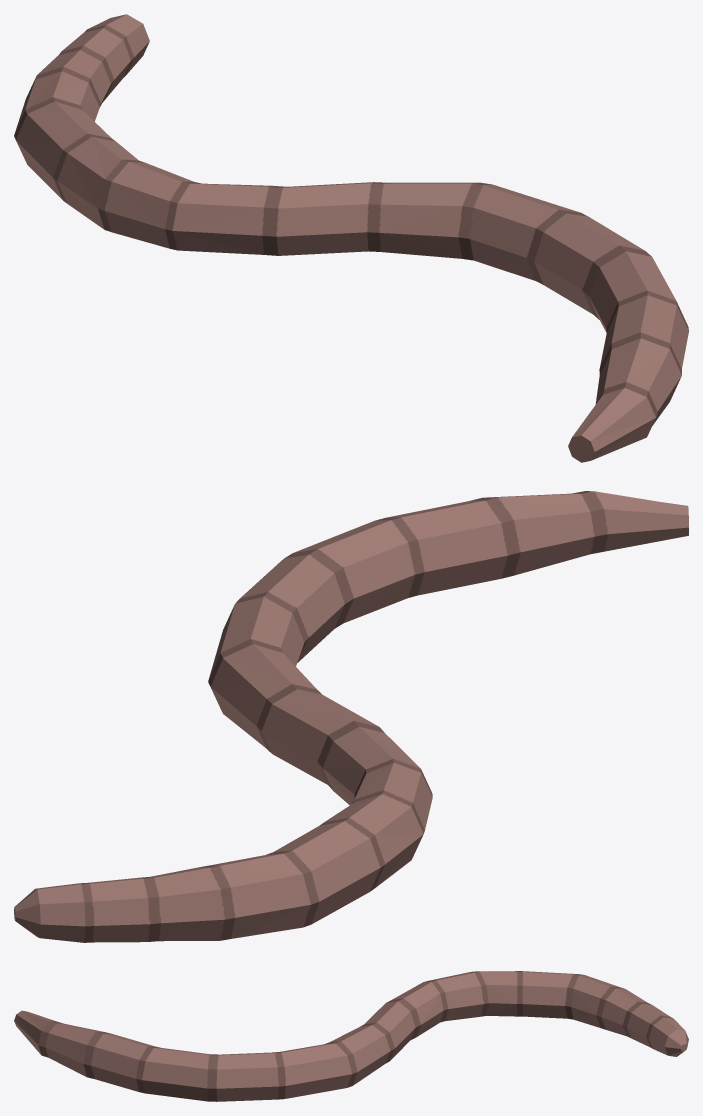
File: worm.obj
3 views of the same model, one above another, from view 1: azimuth 30°, elevation 25°; view 2: azimuth 150°, elevation 25°; view 3: azimuth 270°, elevation 25° (orthographic). The views are drawn at different scales.
Parts seen in each view (by area): view 1: Worm; view 2: Worm; view 3: Worm.
Part boxes in pixels (x1,y1,x2,y2): Worm: (14,14,688,462); Worm: (14,491,688,942); Worm: (14,971,688,1101).
Bounding box in the file's own units: 0.8082 × 0.1635 × 2.19.
1 material, 1 textured.
